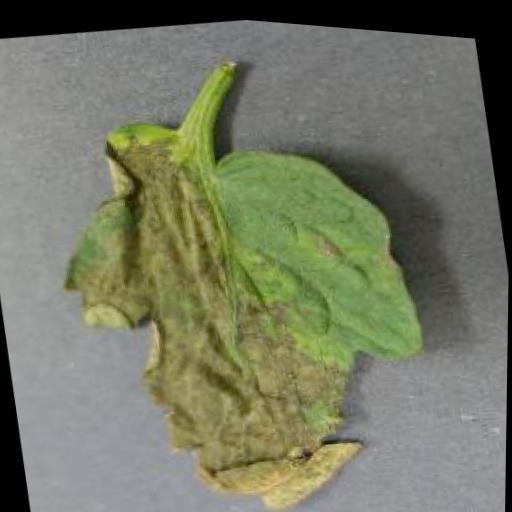Bacterial Spot: (29, 66, 456, 512)
